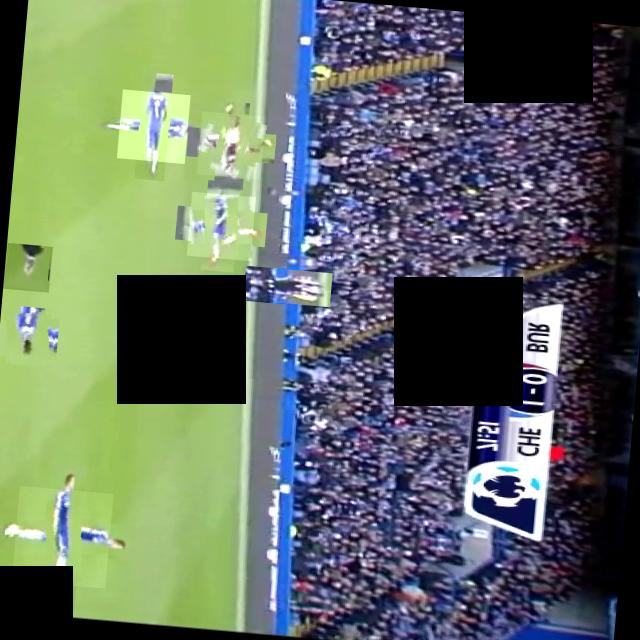referee: (242, 266, 332, 306), (1, 242, 52, 292)
soccer-player: (10, 486, 112, 588), (116, 88, 190, 164), (196, 111, 264, 179), (186, 192, 254, 260), (0, 307, 56, 365)
